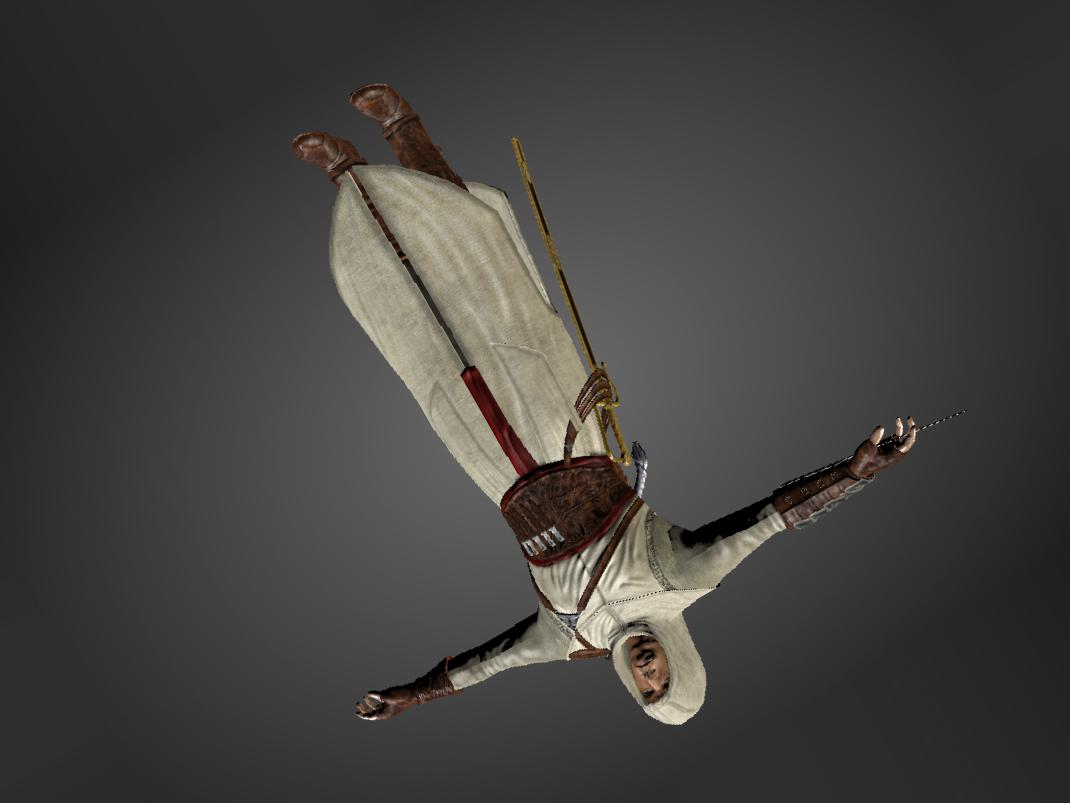clip: (568, 407, 589, 438)
